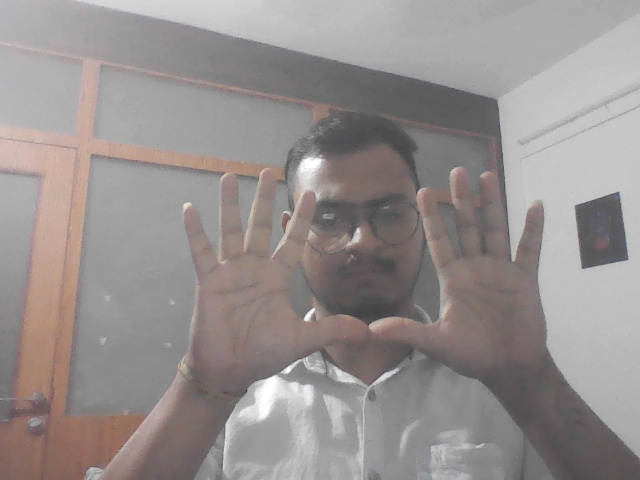Cheers: (170, 158, 561, 406)
